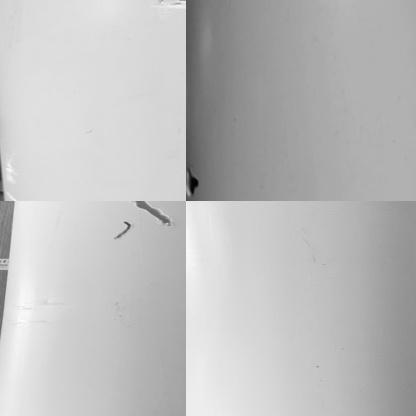fengxi: (112, 220, 137, 245)
kongdong: (135, 196, 175, 232), (184, 164, 206, 196)
sunshang: (3, 152, 19, 201), (155, 1, 187, 10)
